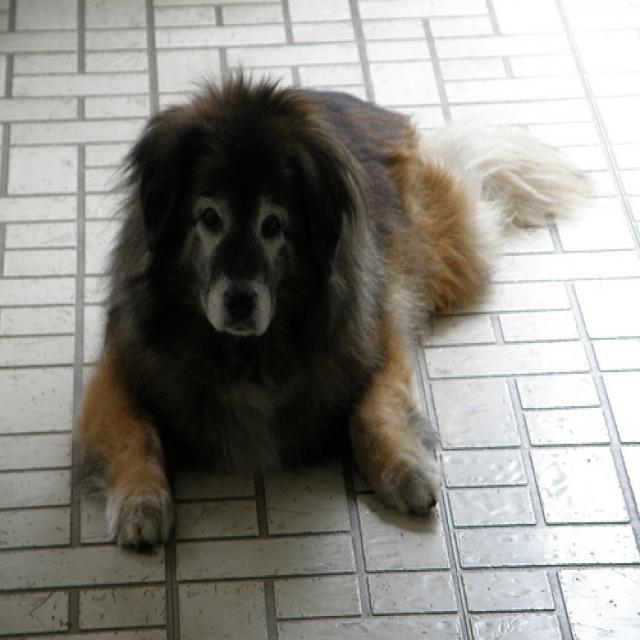dog-leonberger: (69, 58, 580, 558)
